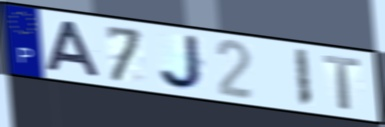2: (214, 38, 255, 102)
7: (105, 24, 144, 84)
A: (44, 18, 104, 79)
I: (292, 47, 314, 110)
J: (157, 33, 208, 92)
T: (321, 54, 364, 113)
